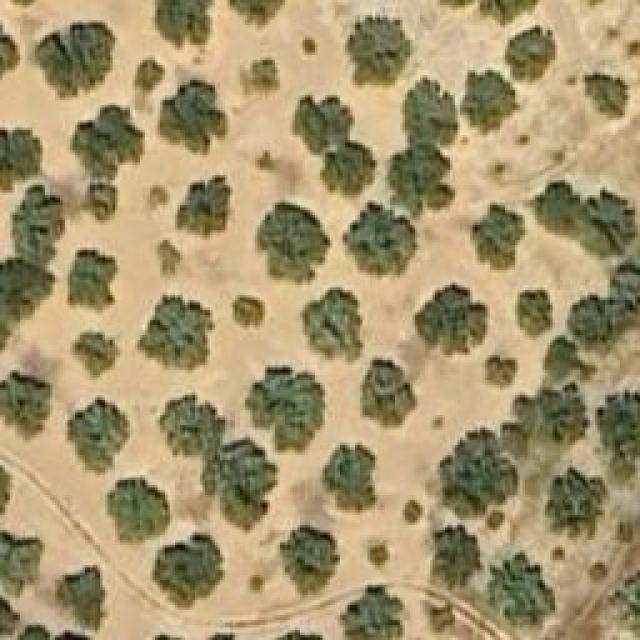Tree: (200, 435, 280, 530), (245, 365, 325, 453), (255, 200, 330, 288), (444, 425, 514, 516), (135, 295, 215, 373), (35, 23, 115, 96), (343, 203, 418, 278), (150, 535, 225, 610), (513, 382, 591, 454), (415, 283, 488, 358), (0, 255, 52, 355), (73, 108, 143, 181), (68, 395, 131, 475), (160, 80, 228, 153), (300, 287, 363, 365), (545, 467, 608, 545), (487, 555, 555, 625), (388, 143, 452, 217), (345, 15, 410, 85), (580, 183, 639, 258), (158, 390, 223, 458), (595, 390, 640, 483), (108, 478, 171, 543), (280, 525, 338, 595), (175, 175, 235, 240), (65, 247, 120, 315), (460, 70, 518, 133), (473, 205, 526, 273), (323, 442, 376, 510), (338, 585, 403, 640), (397, 82, 456, 142), (10, 185, 60, 255), (153, 0, 216, 55), (363, 360, 416, 425), (290, 93, 347, 149), (433, 525, 483, 588), (0, 375, 50, 438), (320, 142, 378, 193), (427, 0, 545, 25), (505, 25, 558, 80), (570, 290, 619, 349), (535, 183, 583, 243), (58, 568, 103, 628), (0, 128, 40, 193), (0, 532, 42, 592), (583, 70, 633, 118), (607, 570, 640, 637), (545, 338, 595, 381), (515, 288, 555, 341), (72, 333, 120, 376), (607, 260, 640, 320), (225, 0, 288, 30), (240, 58, 280, 98), (0, 15, 18, 93), (485, 350, 520, 390), (233, 295, 266, 330), (85, 182, 115, 220), (0, 592, 15, 640), (135, 63, 158, 93), (402, 500, 420, 523), (587, 560, 605, 583), (368, 545, 388, 565), (485, 508, 505, 528), (303, 37, 318, 55)
